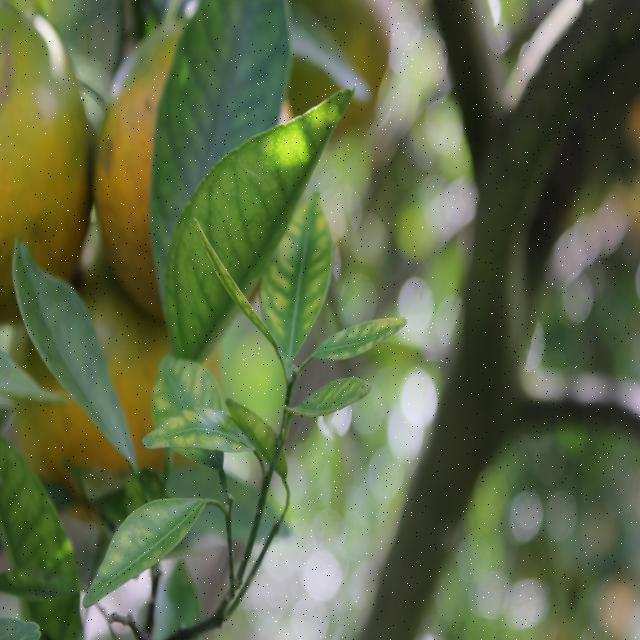greening: (90, 487, 211, 593), (270, 206, 338, 362), (323, 303, 408, 366), (144, 411, 249, 462), (237, 394, 291, 478), (294, 376, 366, 418)
